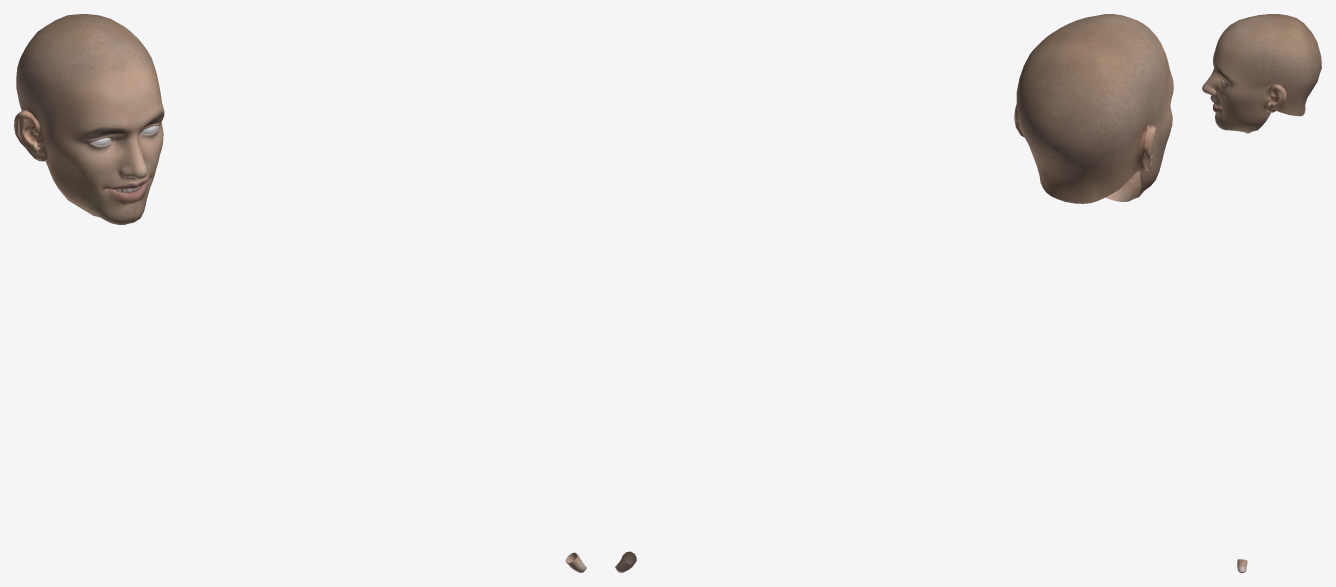
Rendered from Male.obj.
The picture shows the model from 3 angles, left to right: view 1: azimuth 30°, elevation 25°; view 2: azimuth 150°, elevation 25°; view 3: azimuth 270°, elevation 25°; orthographic projection. The views are drawn at different scales.
Visible parts, largest first — view 1: Head; view 2: Head; view 3: Head.
Boxes of the visible parts, left/top/right/bottom form: Head: left=14, top=14, right=164, bottom=224; Head: left=1014, top=14, right=1173, bottom=203; Head: left=1202, top=14, right=1321, bottom=133.
Size of the model in its own units: 77.1 by 88.43 by 23.42.
